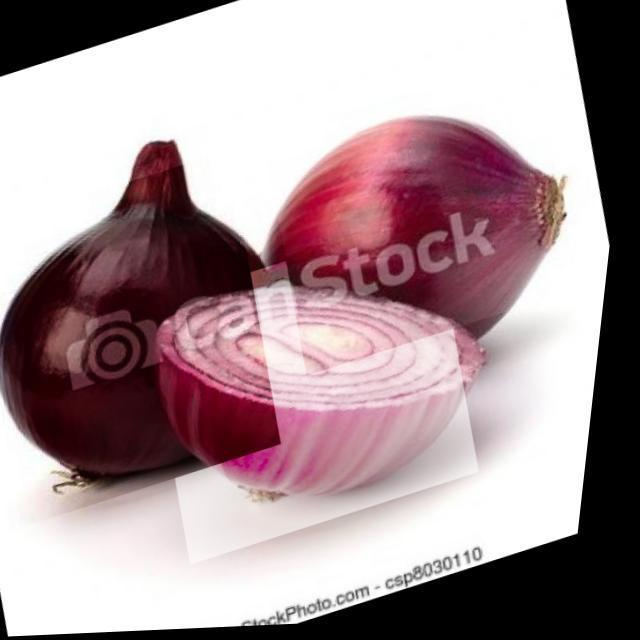Onion: (128, 215, 513, 569), (0, 148, 317, 532), (249, 65, 596, 381)
